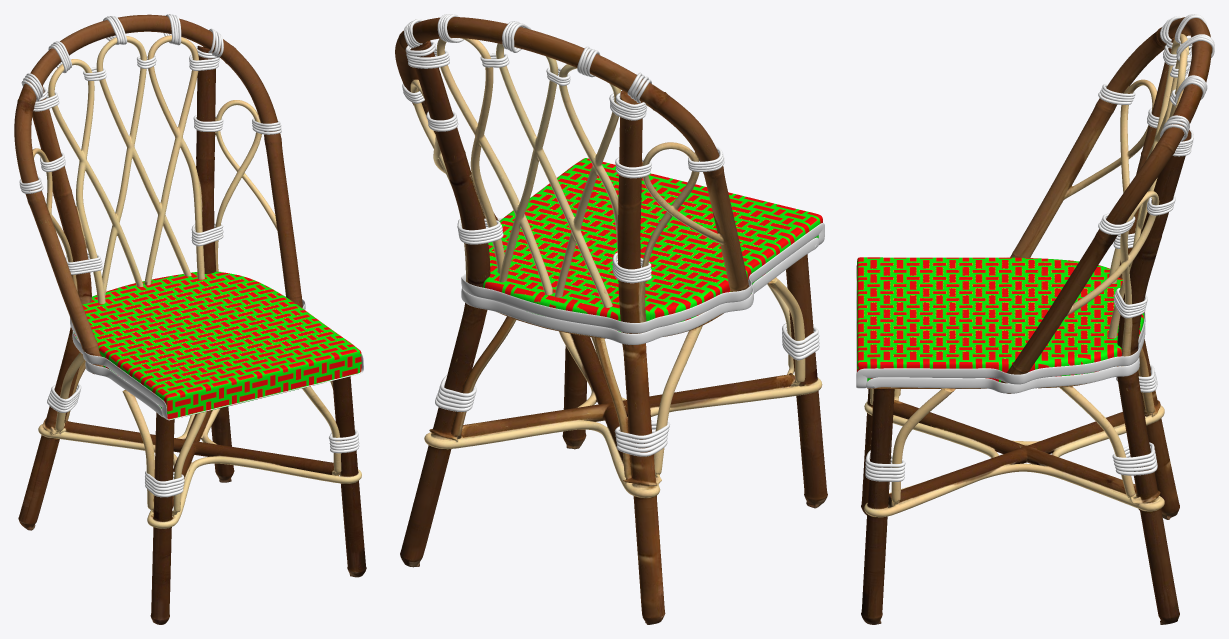
The model's file is resille-damier.glb.
3 views of the same model, side by side, from view 1: azimuth 30°, elevation 25°; view 2: azimuth 150°, elevation 25°; view 3: azimuth 270°, elevation 25° (orthographic). The views are drawn at different scales.
Parts seen in each view (by area): view 1: mesh_structure, mesh_tressage, mesh_laniere; view 2: mesh_structure, mesh_tressage, mesh_laniere; view 3: mesh_structure, mesh_tressage, mesh_laniere.
Part boxes in pixels (x1,y1,x2,y2): mesh_structure: (14,14,366,624); mesh_tressage: (74,271,361,419); mesh_laniere: (19,14,363,497); mesh_structure: (395,17,827,624); mesh_tressage: (483,158,822,331); mesh_laniere: (402,14,824,456); mesh_structure: (861,17,1212,624); mesh_tressage: (857,257,1144,381); mesh_laniere: (856,14,1214,481).
Bounding box in the file's own units: 0.5127 × 0.9055 × 0.5496.
Materials: 3 (2 with a texture image).
